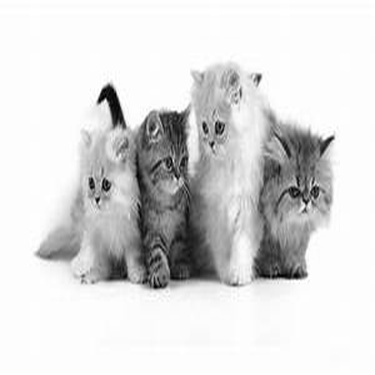cat: (32, 78, 145, 286), (183, 62, 263, 288), (256, 98, 337, 287), (133, 99, 193, 293)
